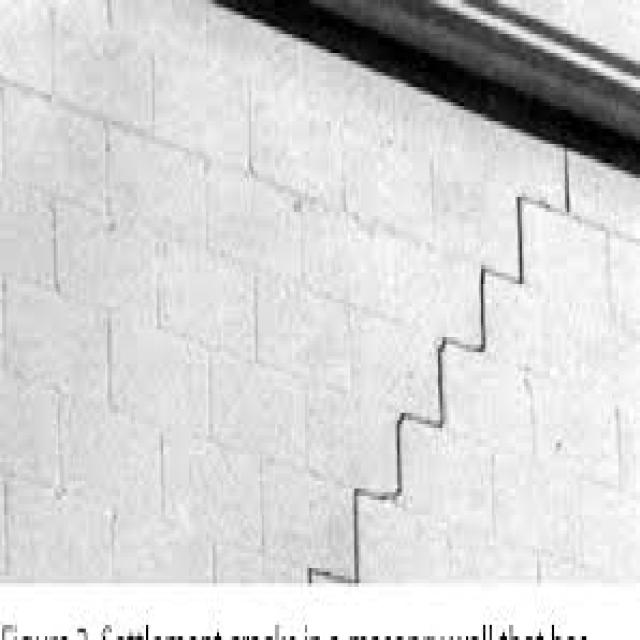Crack: (301, 140, 569, 583)
